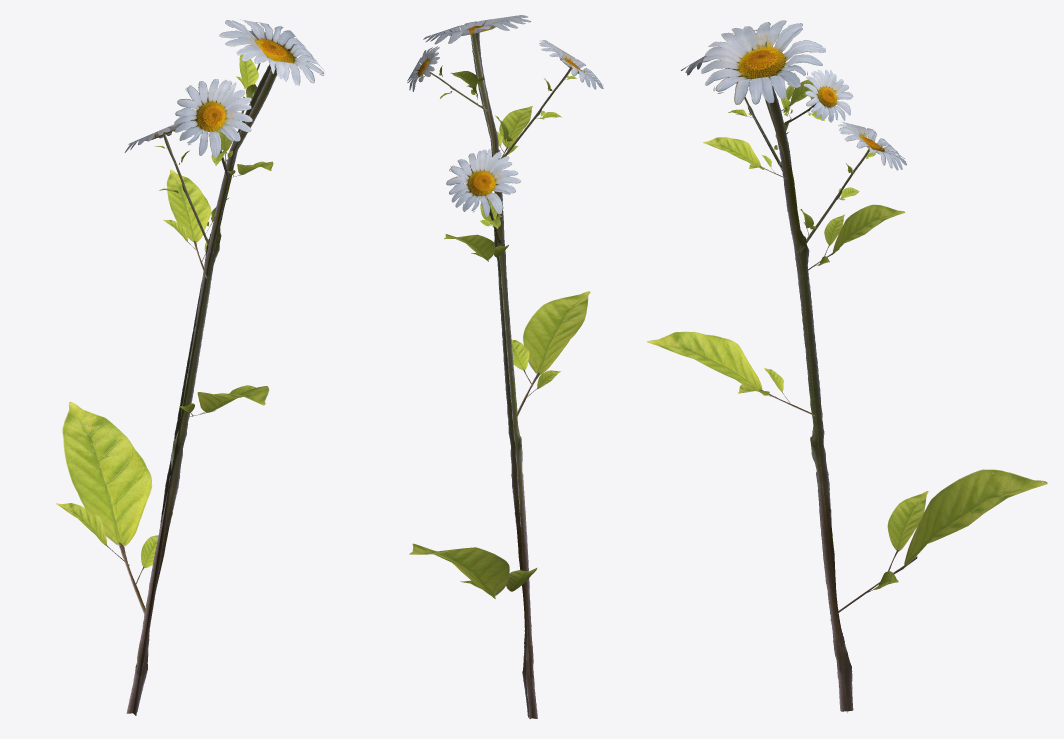
Rendered from WhiteFLower3_1.fbx.
3 views of the same model, side by side, from view 1: azimuth 30°, elevation 25°; view 2: azimuth 150°, elevation 25°; view 3: azimuth 270°, elevation 25° (orthographic). The views are drawn at different scales.
Parts seen in each view (by area): view 1: WhiteFLower3_1; view 2: WhiteFLower3_1; view 3: WhiteFLower3_1.
Boxes of the visible parts, x1,y1,x2,y2 form: WhiteFLower3_1: (56, 19, 324, 715); WhiteFLower3_1: (407, 15, 603, 718); WhiteFLower3_1: (647, 20, 1047, 712).
Bounding box in the file's own units: 0.0748 × 0.2529 × 0.1273.
